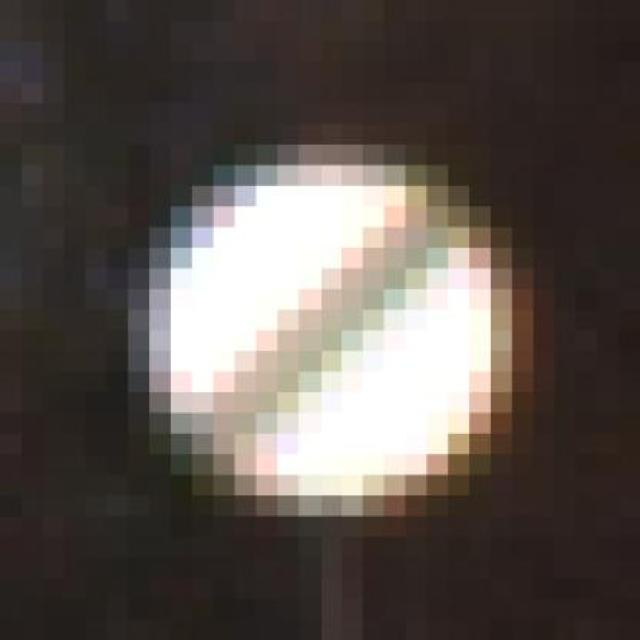End of all speed and passing limits: (85, 103, 533, 537)
